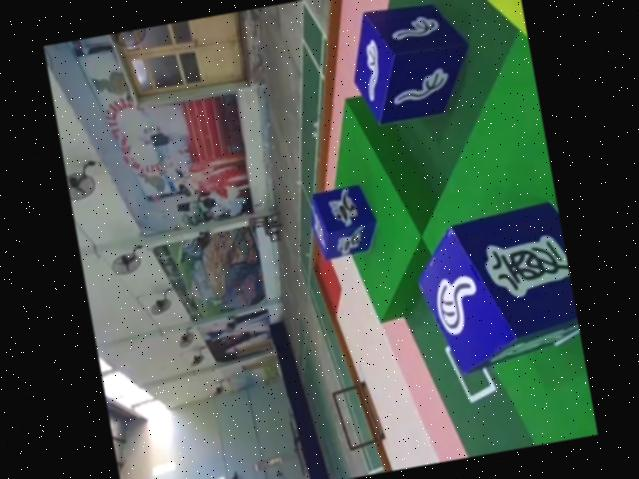R1 Blue: (306, 180, 383, 261)
R2 Fake Blue: (407, 204, 583, 382)
R2 Real Blue: (345, 0, 482, 127)
